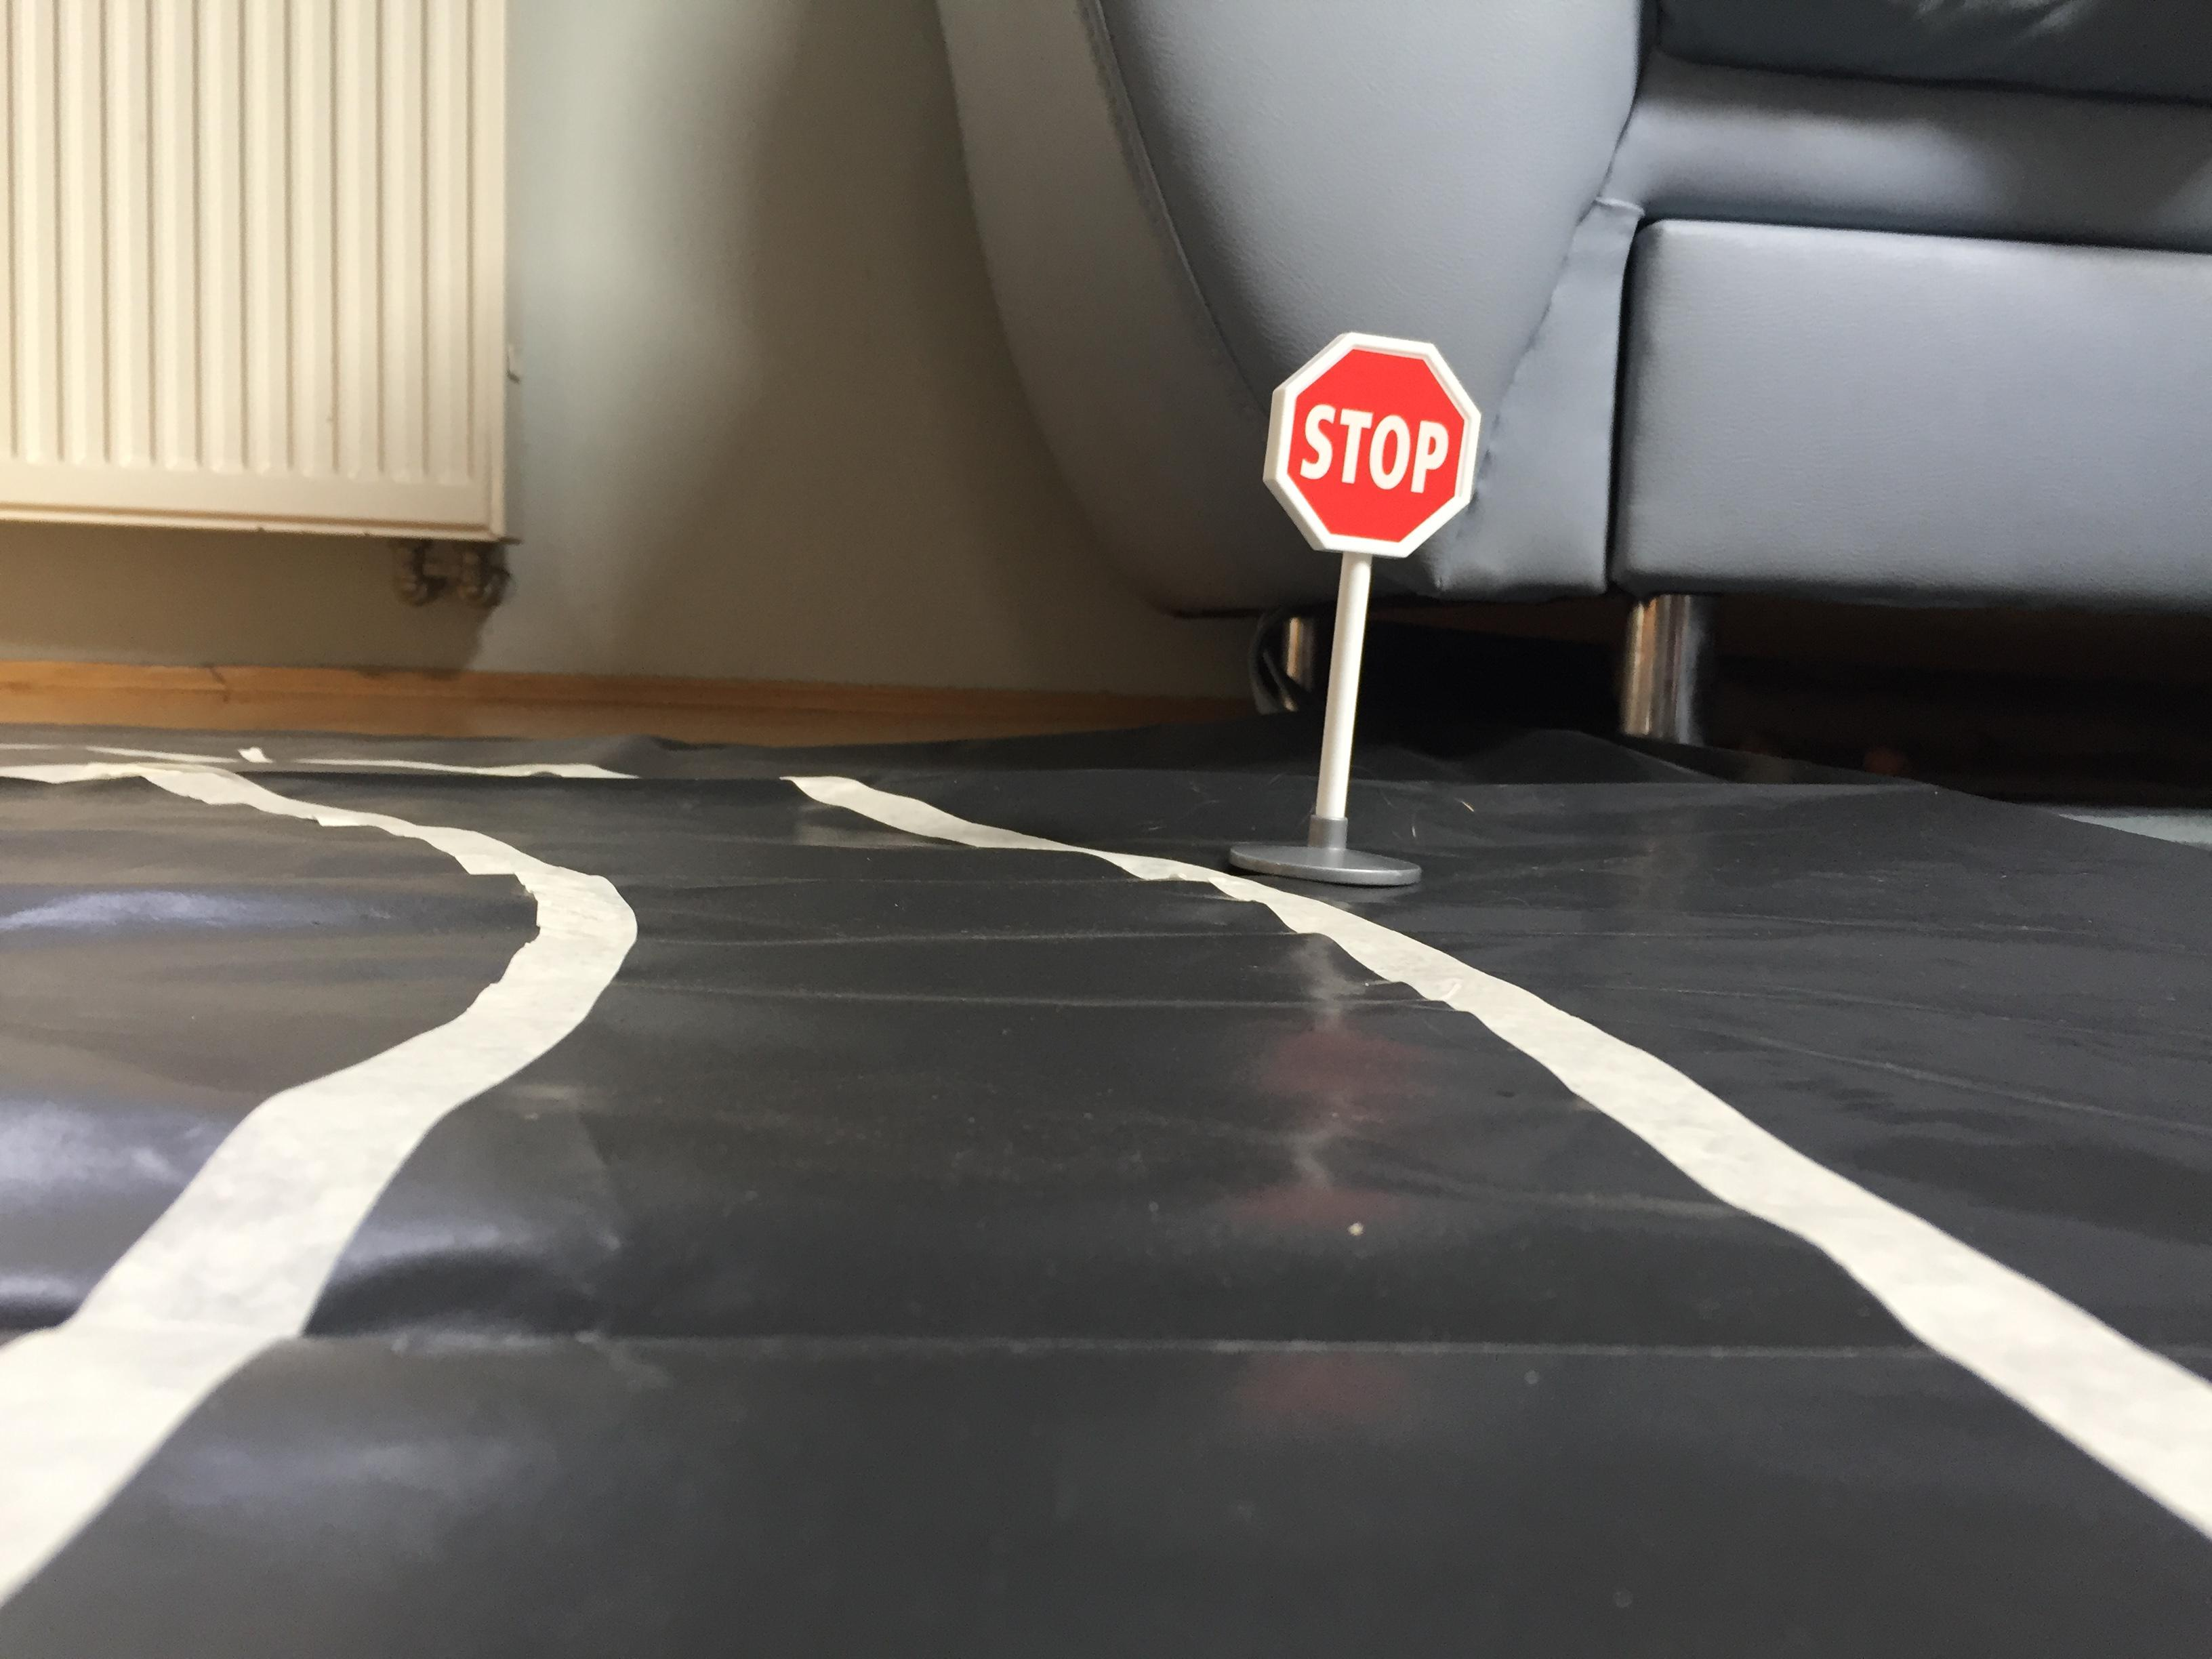stop: (1247, 322, 1493, 570)
